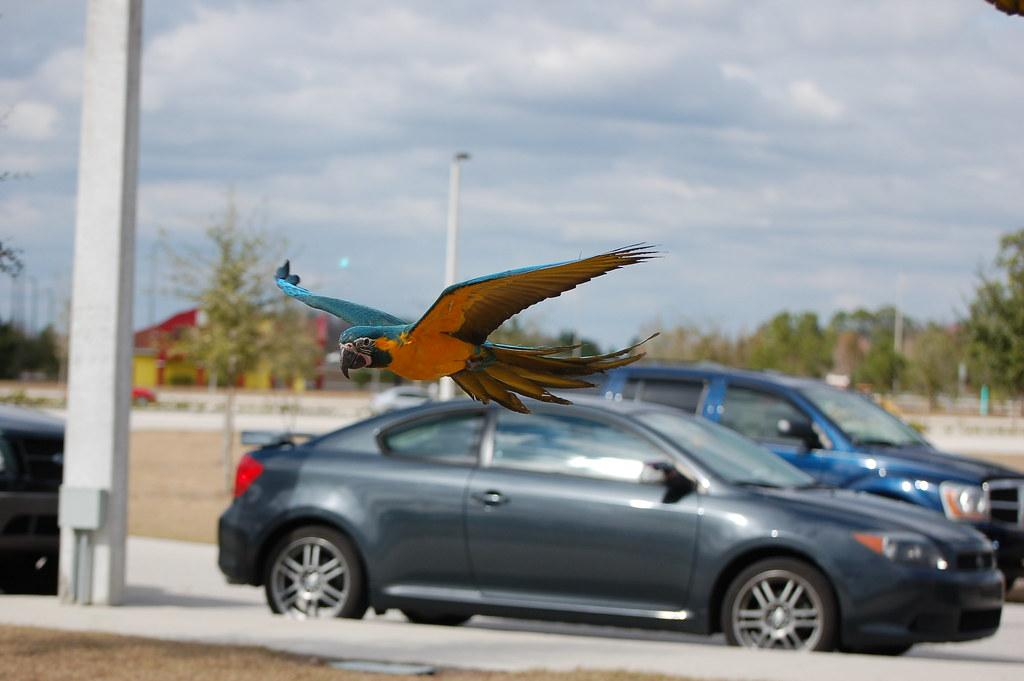car: (217, 395, 1007, 656), (594, 361, 1024, 596), (1, 404, 66, 596)
